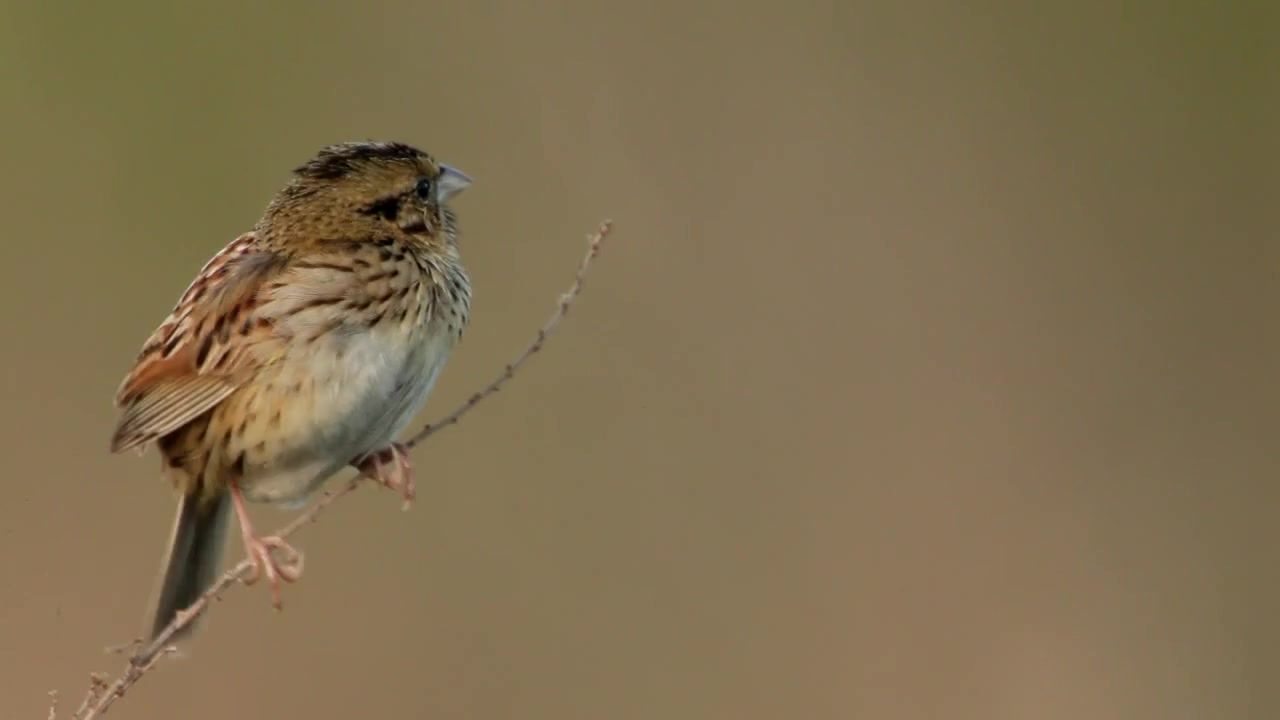bird: (109, 137, 475, 659)
